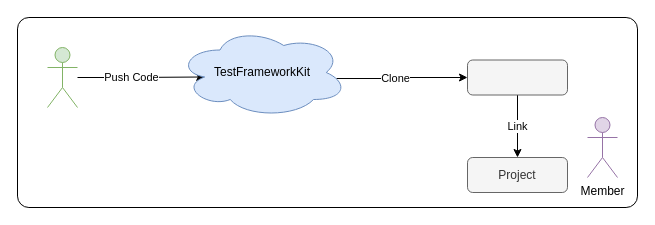
Some shapes in this 655 by 225 pixel diagram are drawn without their labels. Here are the shapes that lost their labels. From the top down, the centre of each, then its label:
At point 62,77: "Author".
At point 517,77: "Local Framework".
